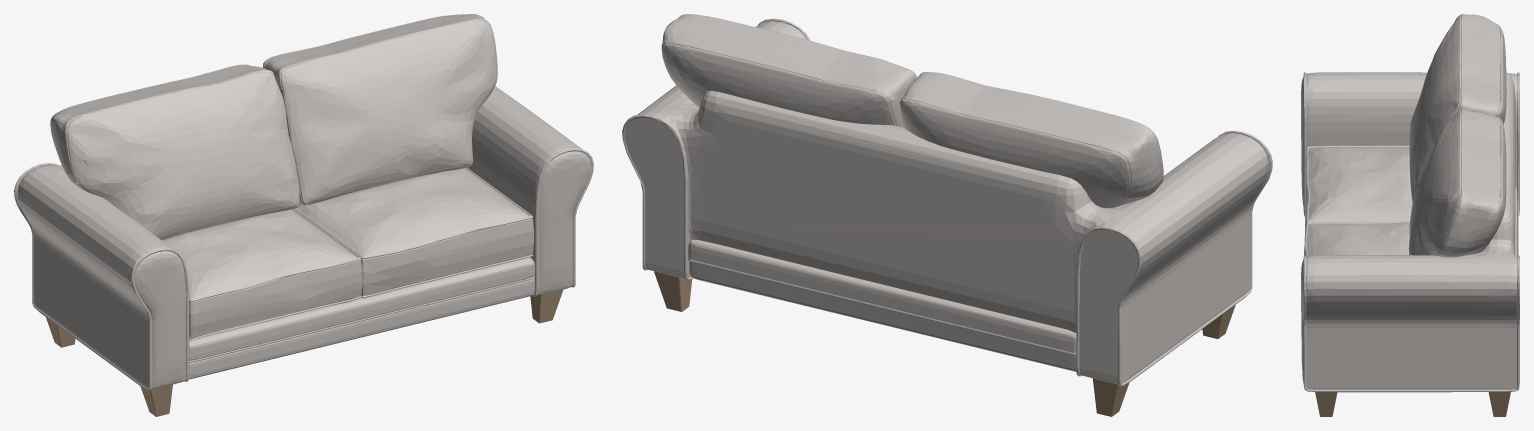
Rendered from sh3d_blendswap_sofa_132.glb.
3 renders of one model, left to right at view 1: azimuth 30°, elevation 25°; view 2: azimuth 150°, elevation 25°; view 3: azimuth 270°, elevation 25°, orthographic. The views are drawn at different scales.
Parts seen in each view (by area): view 1: Fabric, Trim, Wood; view 2: Fabric, Trim, Wood; view 3: Fabric, Trim, Wood.
Boxes of the visible parts, x1,y1,x2,y2 form: Fabric: (17, 14, 591, 389); Trim: (14, 148, 593, 390); Wood: (46, 289, 563, 416); Fabric: (625, 14, 1268, 384); Trim: (622, 18, 1272, 386); Wood: (654, 271, 1235, 416); Fabric: (1301, 14, 1517, 389); Trim: (1303, 72, 1519, 392); Wood: (1315, 392, 1510, 416).
Size of the model in its own units: 1.67 by 0.8481 by 0.7471.
